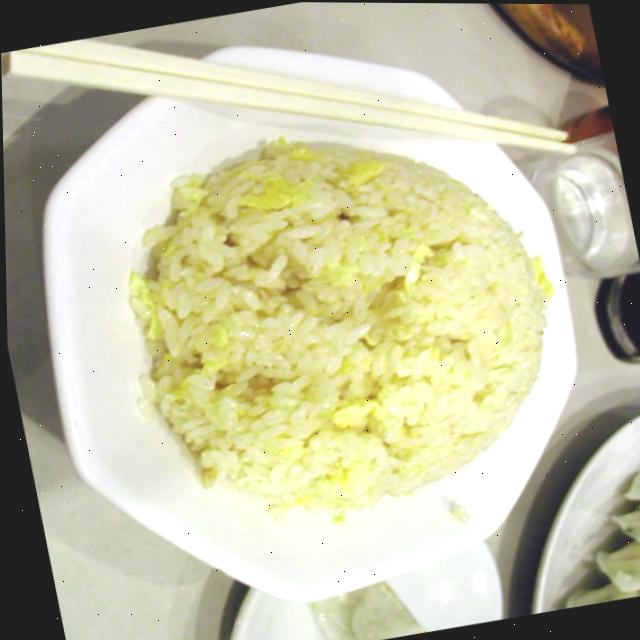米饭主食: (0, 12, 613, 613)
